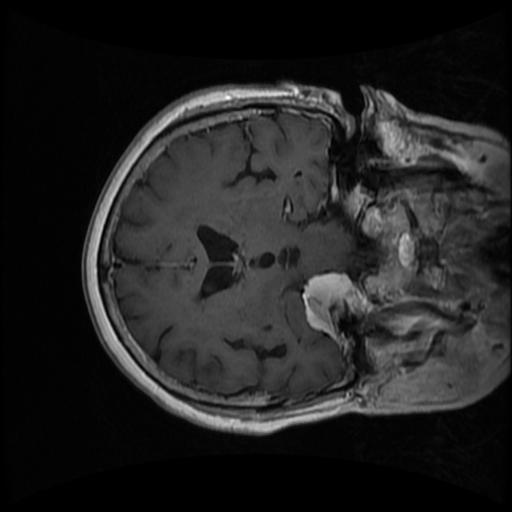meningioma: (300, 271, 371, 338)
